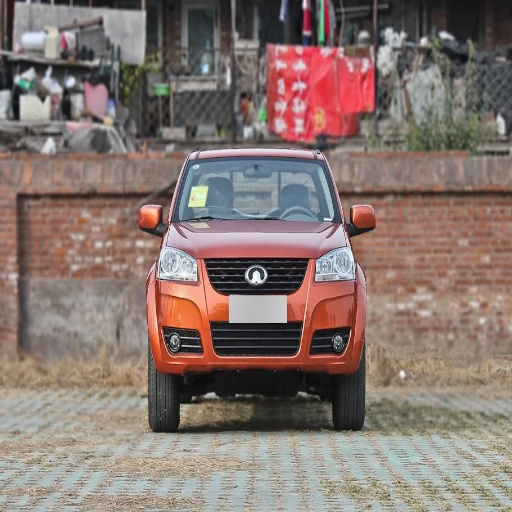front_bumper: (150, 258, 359, 373)
front_right_light: (158, 244, 200, 285)
hood: (169, 220, 342, 257)
